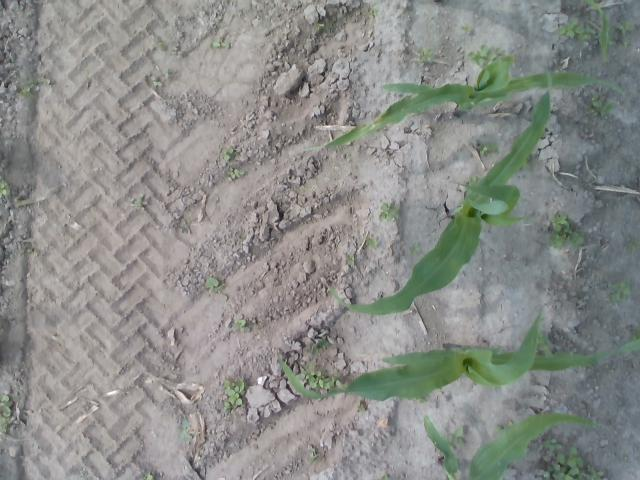Maize: (327, 74, 552, 320), (294, 55, 626, 155), (280, 314, 640, 402), (422, 414, 601, 480), (434, 0, 610, 58)
Weeds: (542, 447, 585, 480), (548, 214, 584, 250), (294, 364, 346, 388), (558, 17, 596, 40), (467, 44, 502, 68), (222, 378, 245, 412), (587, 92, 617, 118), (0, 394, 12, 436), (534, 330, 552, 356), (608, 282, 632, 301), (476, 141, 501, 158), (446, 426, 466, 446), (176, 418, 193, 441), (378, 202, 399, 220), (204, 277, 226, 293), (311, 338, 331, 355), (180, 214, 196, 232), (542, 436, 562, 450), (587, 464, 604, 480), (617, 20, 636, 34), (225, 167, 245, 180), (220, 145, 236, 161), (418, 45, 433, 62), (232, 318, 250, 332), (18, 84, 36, 98), (363, 234, 378, 248), (518, 154, 532, 169), (362, 6, 379, 18), (147, 40, 167, 50), (210, 40, 230, 50), (0, 180, 10, 198), (627, 238, 640, 250), (150, 76, 163, 88), (29, 77, 51, 84), (408, 241, 419, 255), (346, 251, 356, 265), (132, 197, 144, 207), (356, 400, 366, 412), (310, 447, 318, 462), (606, 30, 614, 44), (137, 474, 155, 480), (631, 328, 640, 340), (374, 474, 392, 480), (164, 67, 173, 79), (468, 174, 478, 184), (314, 22, 326, 30), (493, 424, 504, 432), (460, 24, 471, 32), (621, 38, 631, 46), (415, 397, 426, 403), (238, 235, 247, 242), (23, 248, 32, 253)
